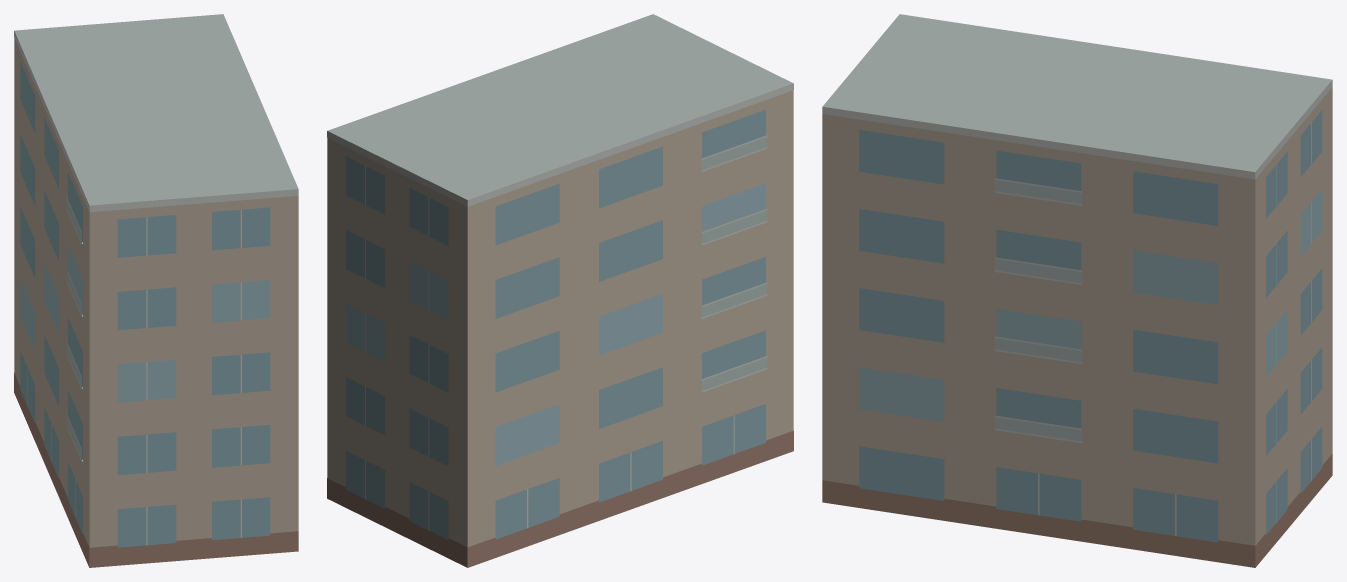
The model's file is survey-upis-32951762.glb.
3 renders of one model, left to right at view 1: azimuth 30°, elevation 25°; view 2: azimuth 150°, elevation 25°; view 3: azimuth 270°, elevation 25°, orthographic. The views are drawn at different scales.
Visible parts, largest first — view 1: survey-upis-32951762.tmp; view 2: survey-upis-32951762.tmp; view 3: survey-upis-32951762.tmp.
Boxes of the visible parts, box(x1,y1,x2,y2) form: survey-upis-32951762.tmp: box(14, 14, 298, 567); survey-upis-32951762.tmp: box(327, 14, 793, 567); survey-upis-32951762.tmp: box(822, 14, 1332, 567).
Bounding box in the file's own units: 11.41 × 13.3 × 15.55.
